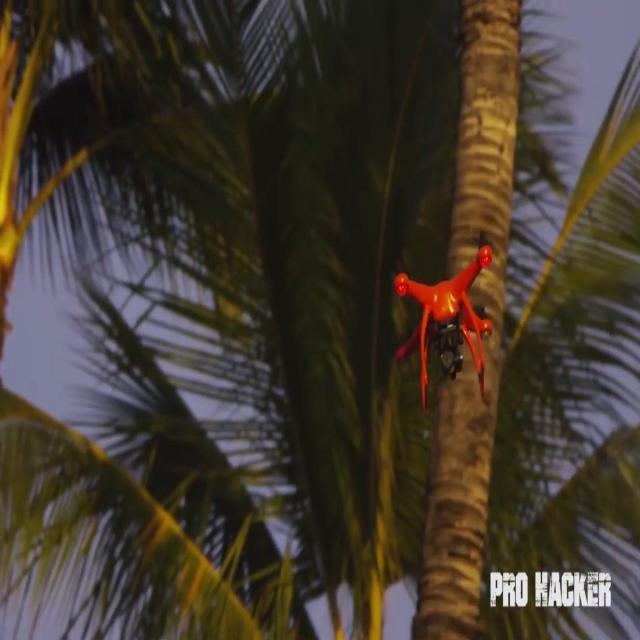drone: (391, 225, 498, 417)
